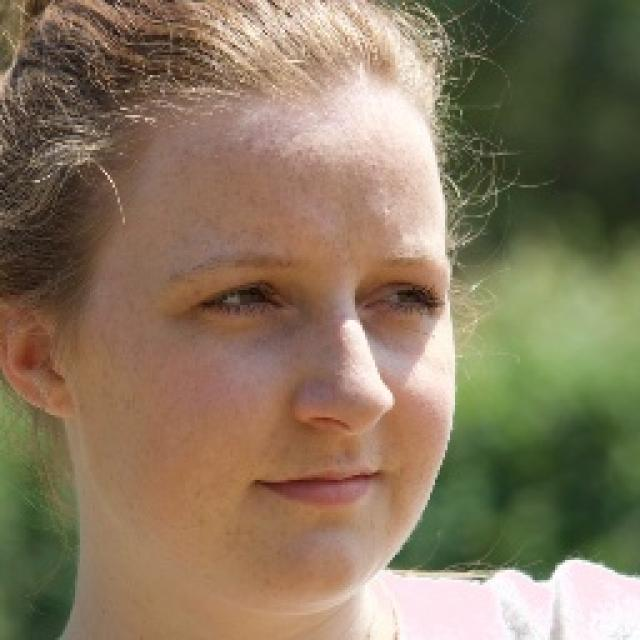earlobe: (24, 389, 78, 420)
eye: (201, 279, 285, 316), (370, 286, 434, 314)
nose: (300, 420, 388, 462)
wholeear: (0, 290, 80, 422)
